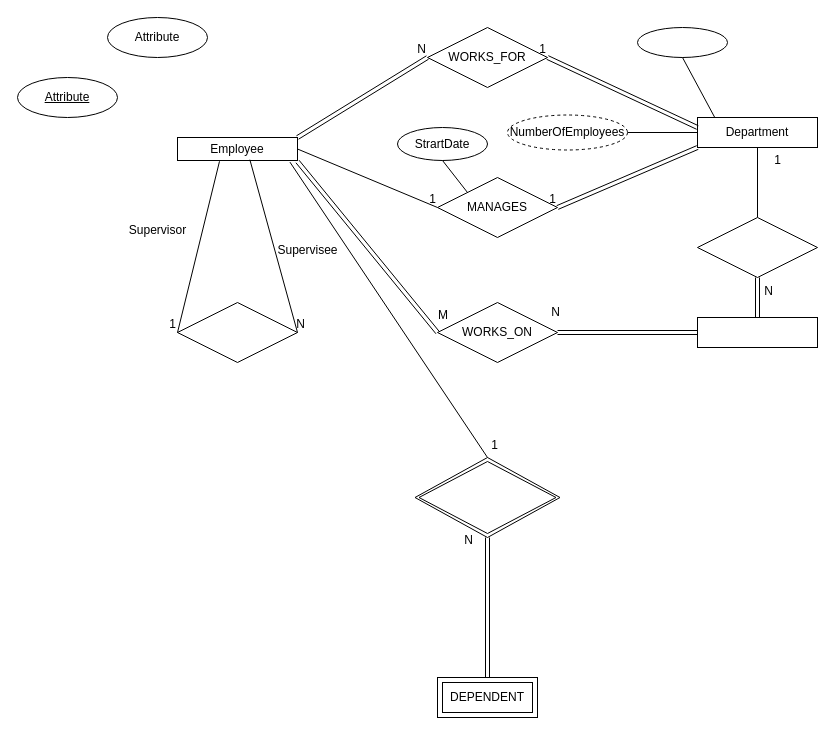
Some shapes in this 835 by 735 pixel diagram are drawn without their labels. The box of each missing label's shape, as (x1, y1, x2, y2) in pixels:
CONTROLS: (696, 216, 818, 278)
DEPENDENTS_OF: (414, 456, 560, 538)
Name: (636, 26, 728, 58)
Project: (696, 316, 818, 348)
SUPERVISE: (176, 302, 298, 362)
